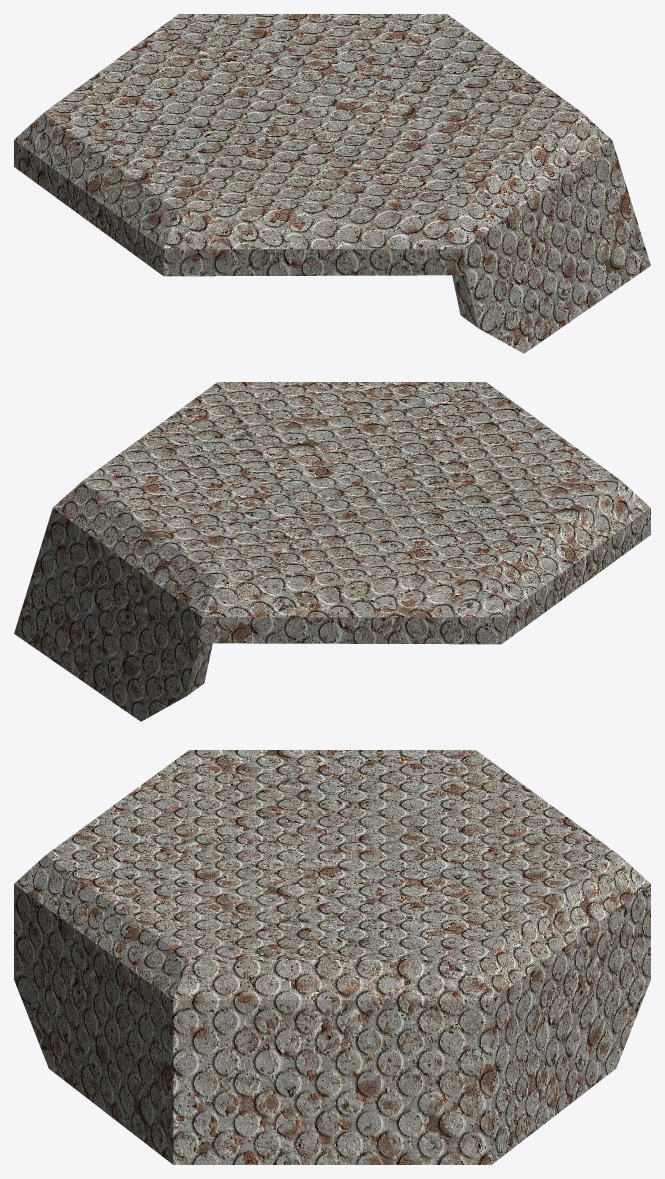
Rendered from Control_panel.fbx.
The picture shows the model from 3 angles, top to bottom: view 1: azimuth 30°, elevation 25°; view 2: azimuth 150°, elevation 25°; view 3: azimuth 270°, elevation 25°; orthographic projection. The views are drawn at different scales.
Visible parts, largest first — view 1: Control_panel; view 2: Control_panel; view 3: Control_panel.
Boxes of the visible parts, <box> form: Control_panel: <box>14,14,650,353</box>; Control_panel: <box>14,382,650,721</box>; Control_panel: <box>14,750,650,1164</box>.
Bounding box in the file's own units: 188 × 60 × 200.
Materials: 1 (1 with a texture image).
